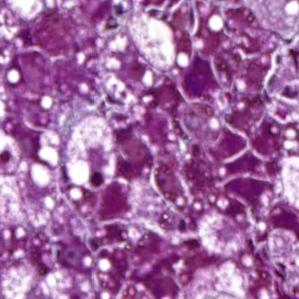ballooning: (64, 114, 120, 194)
